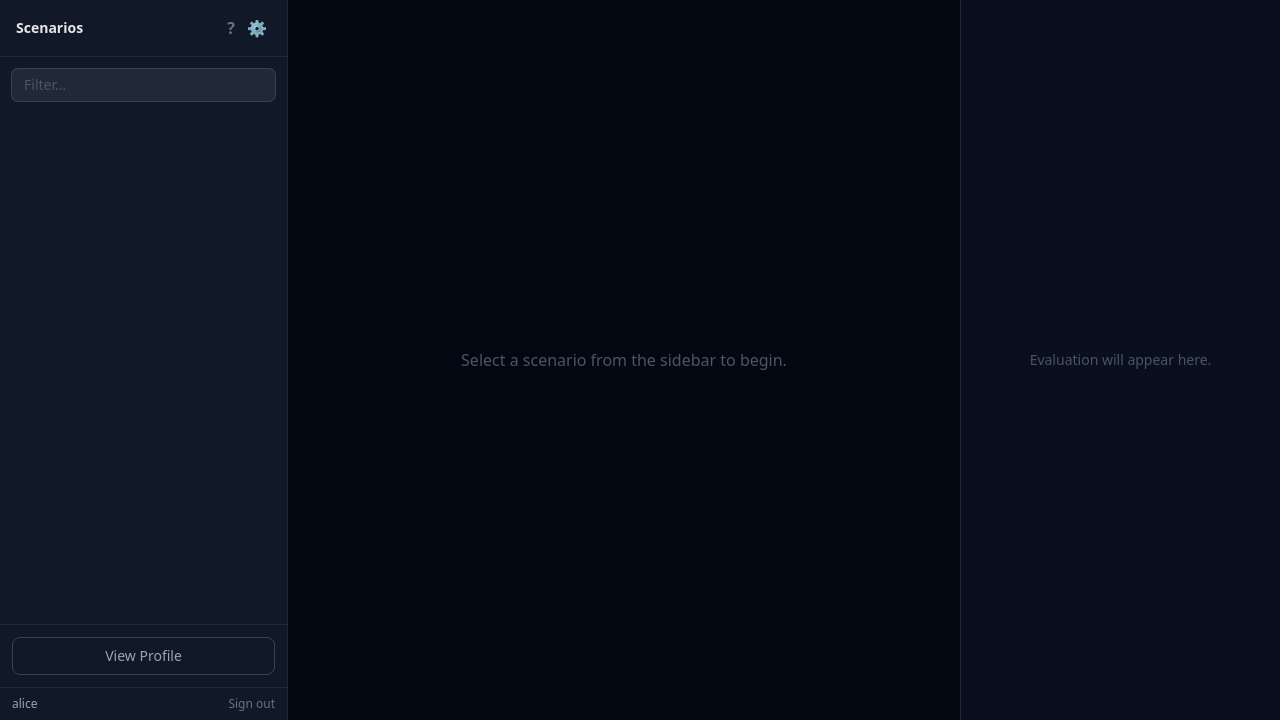
Test: App first-run and mobile layout › clearing profile data clears the signed-in user state
Expected: the text "alice" is shown, x1=12 y1=696 x2=38 y2=712
Click the button titled "Settings": click(257, 28) x1=243 y1=12 x2=271 y2=44
(page scrolled)
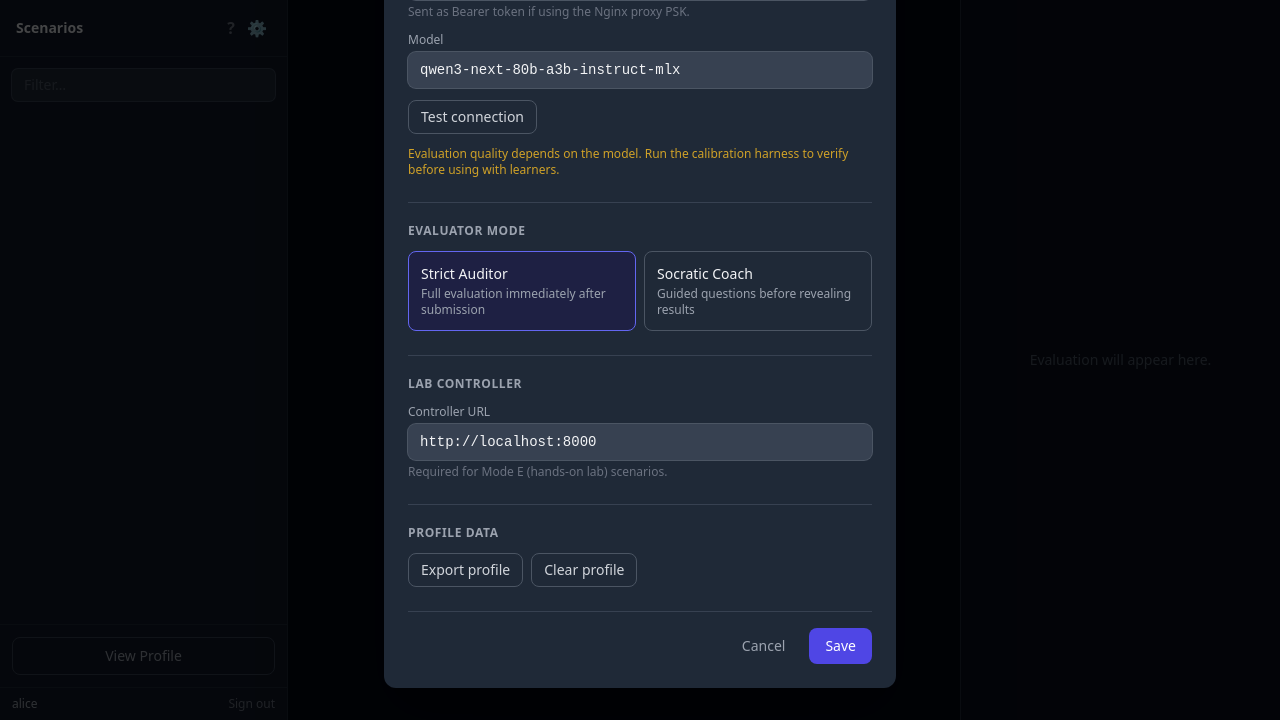
Click the button "Clear profile": click(584, 570) x1=531 y1=553 x2=638 y2=587
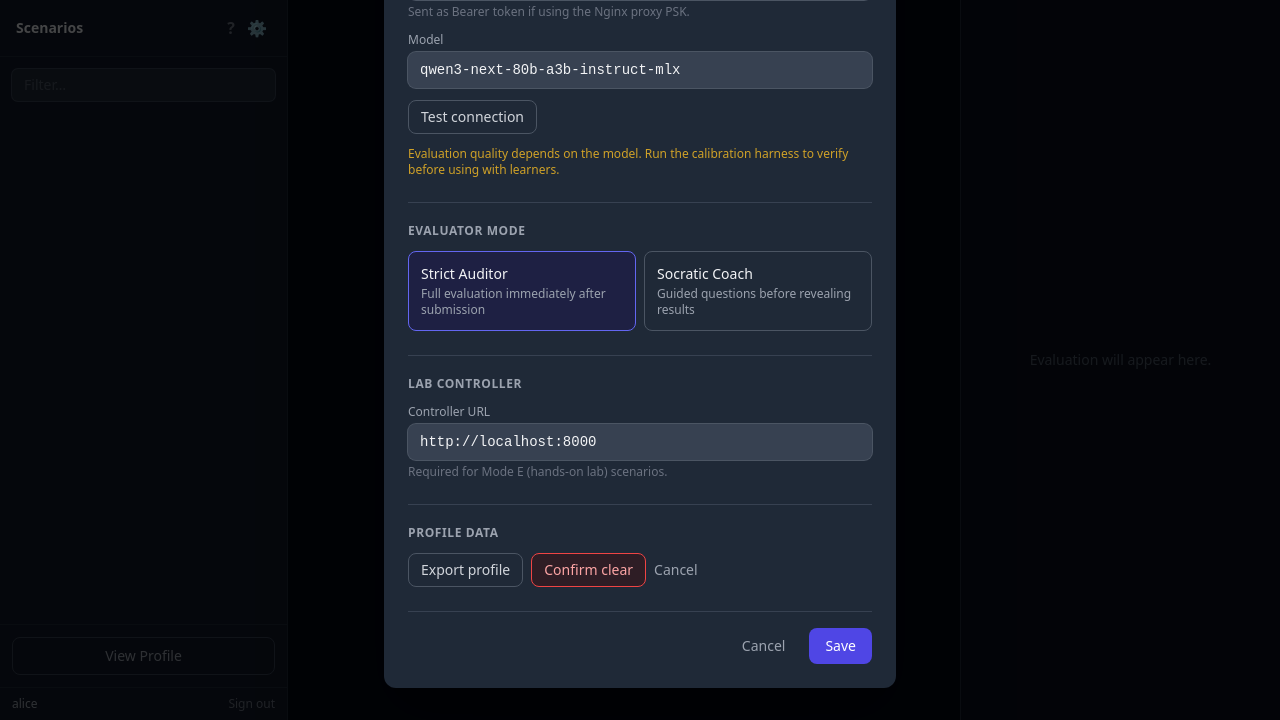
Click the button "Confirm clear": click(589, 570) x1=531 y1=553 x2=646 y2=587
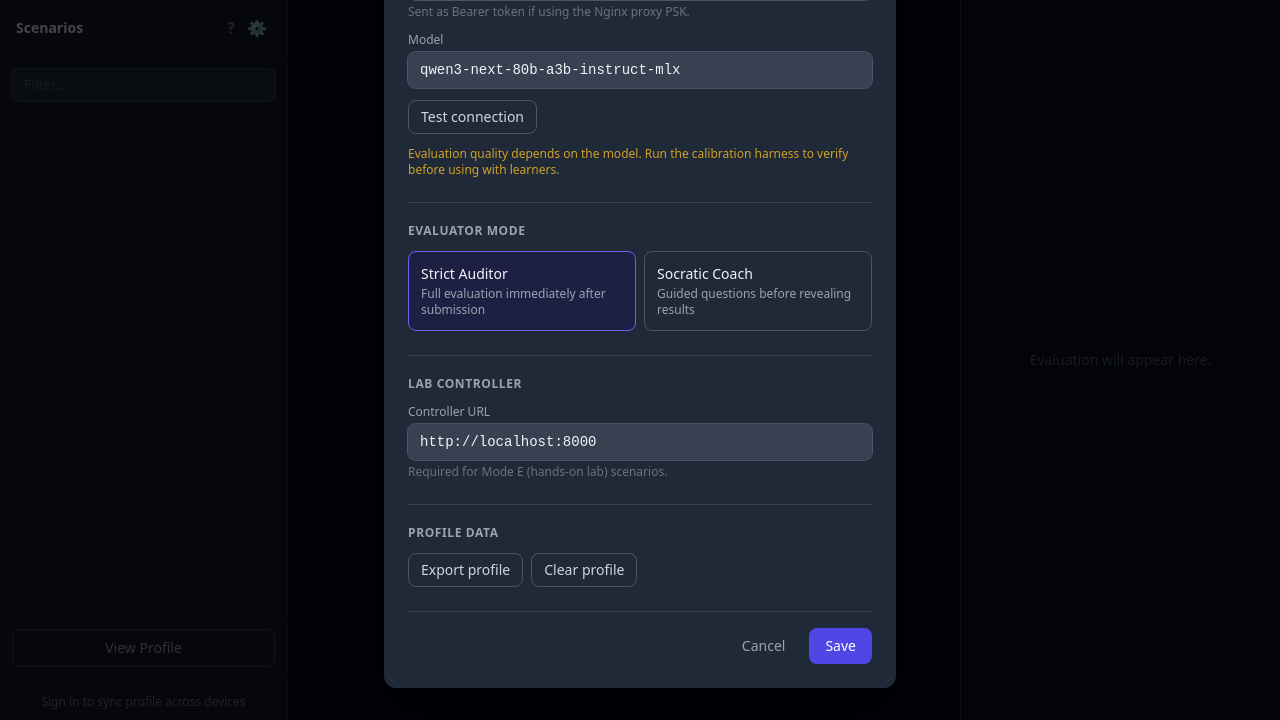
Result: the button "Sign in to sync profile across devices" is shown at x1=12 y1=694 x2=275 y2=710
